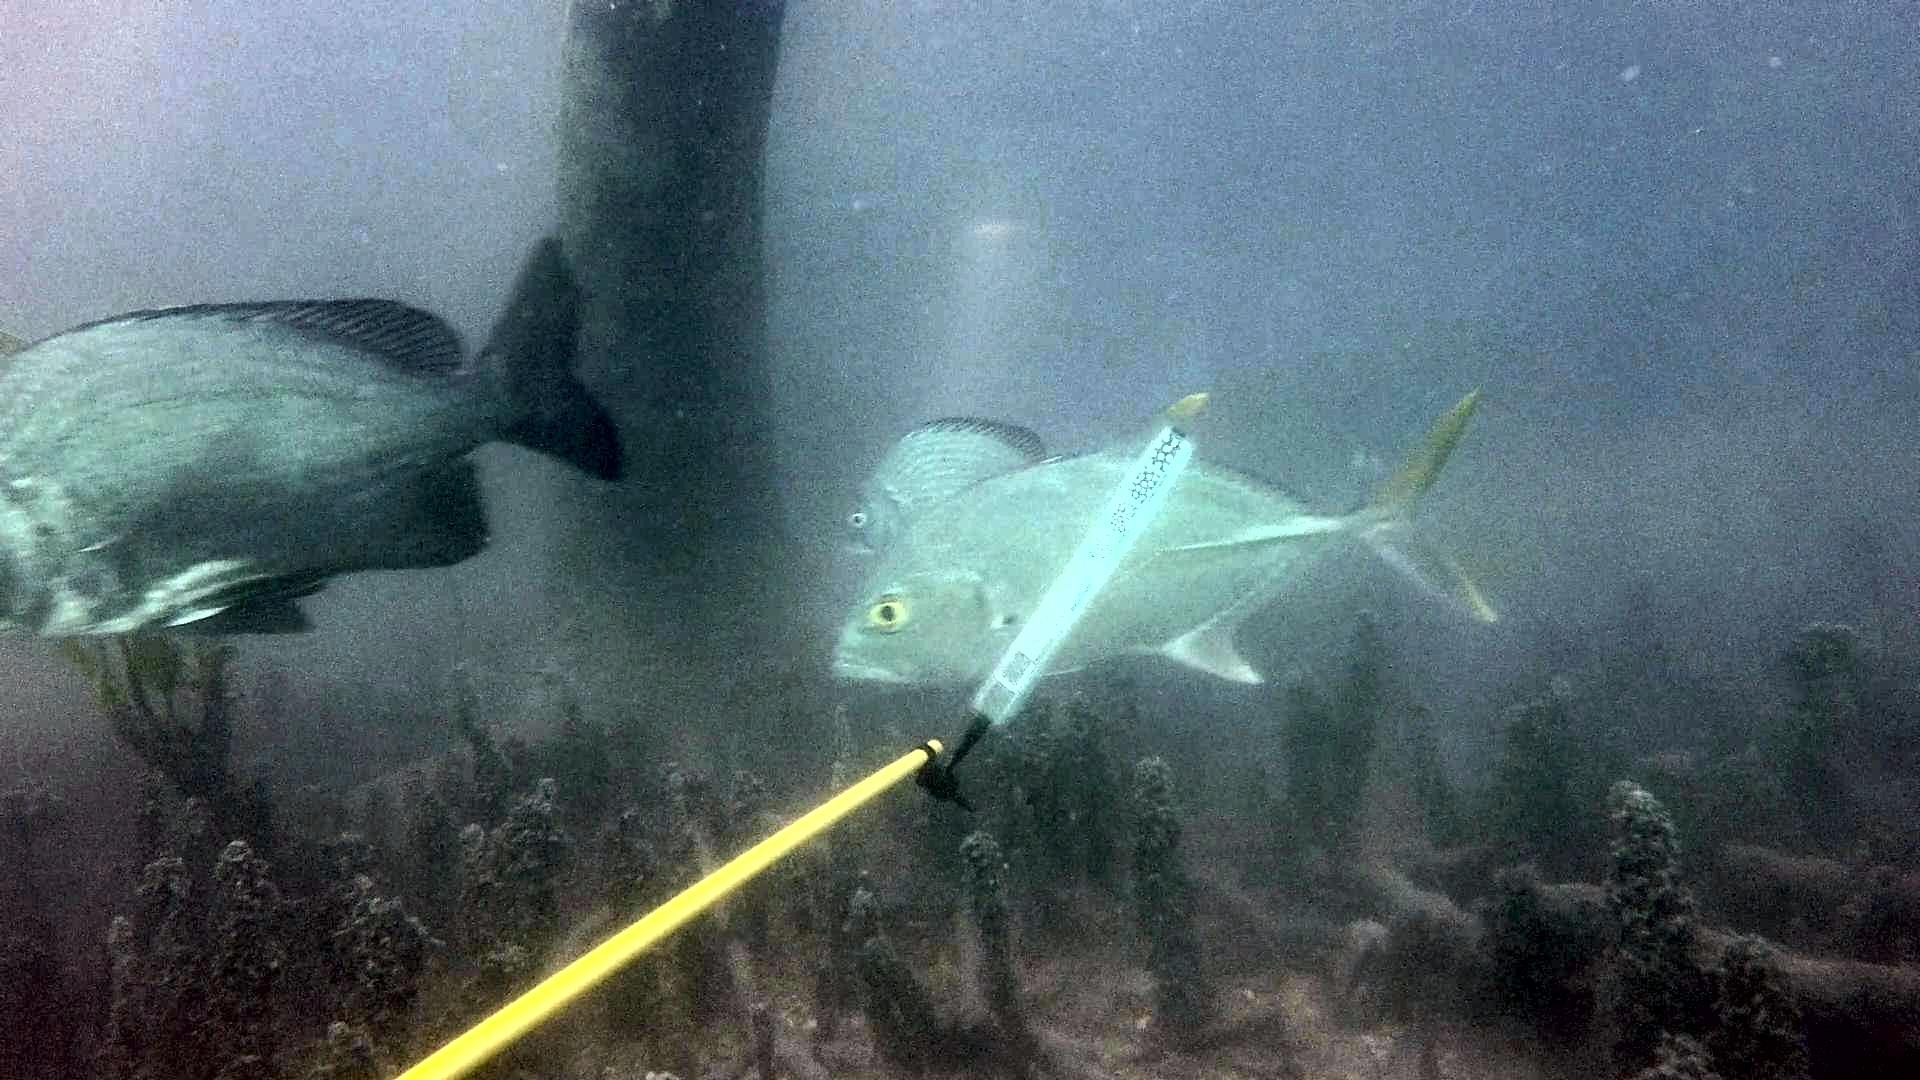acanthopagrus palmaris: (8, 224, 640, 655)
caranx: (818, 380, 1510, 698)
